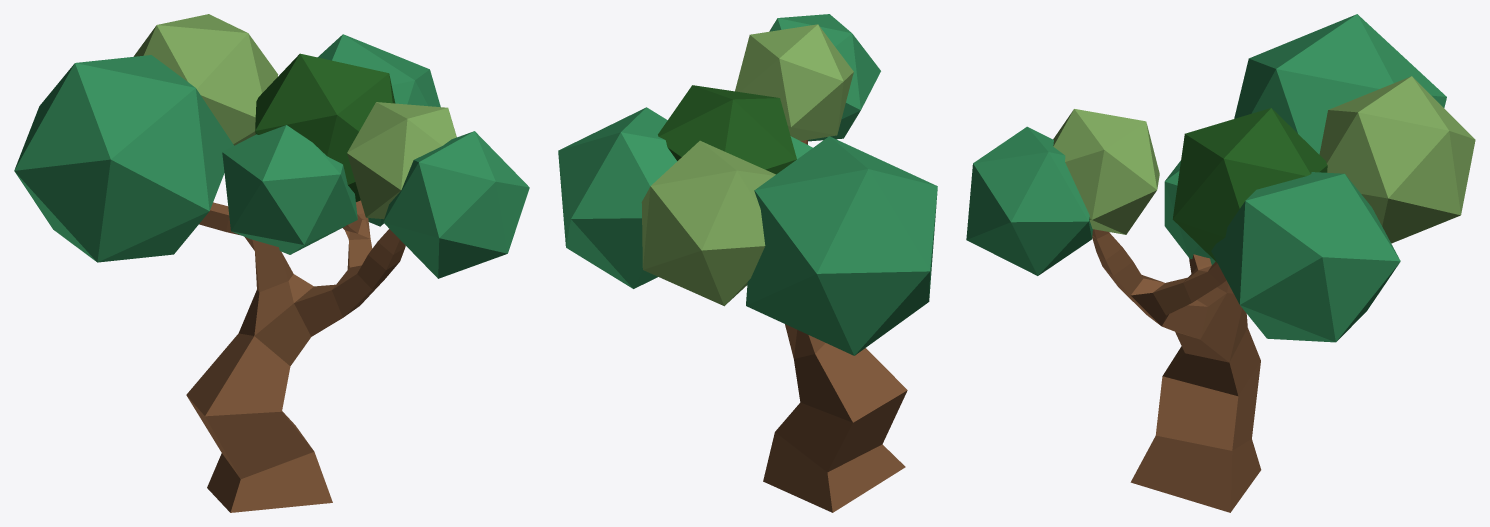
Rendered from Mesa_Tree_BIg_Fluff.fbx.
The picture shows the model from 3 angles, left to right: view 1: azimuth 30°, elevation 25°; view 2: azimuth 150°, elevation 25°; view 3: azimuth 270°, elevation 25°; orthographic projection. The views are drawn at different scales.
Parts seen in each view (by area): view 1: Cube; view 2: Cube; view 3: Cube.
Boxes of the visible parts, left/top/right/bottom form: Cube: left=14, top=14, right=529, bottom=512; Cube: left=558, top=14, right=937, bottom=512; Cube: left=966, top=14, right=1475, bottom=512.
Size of the model in its own units: 1318 by 1293 by 1440.
